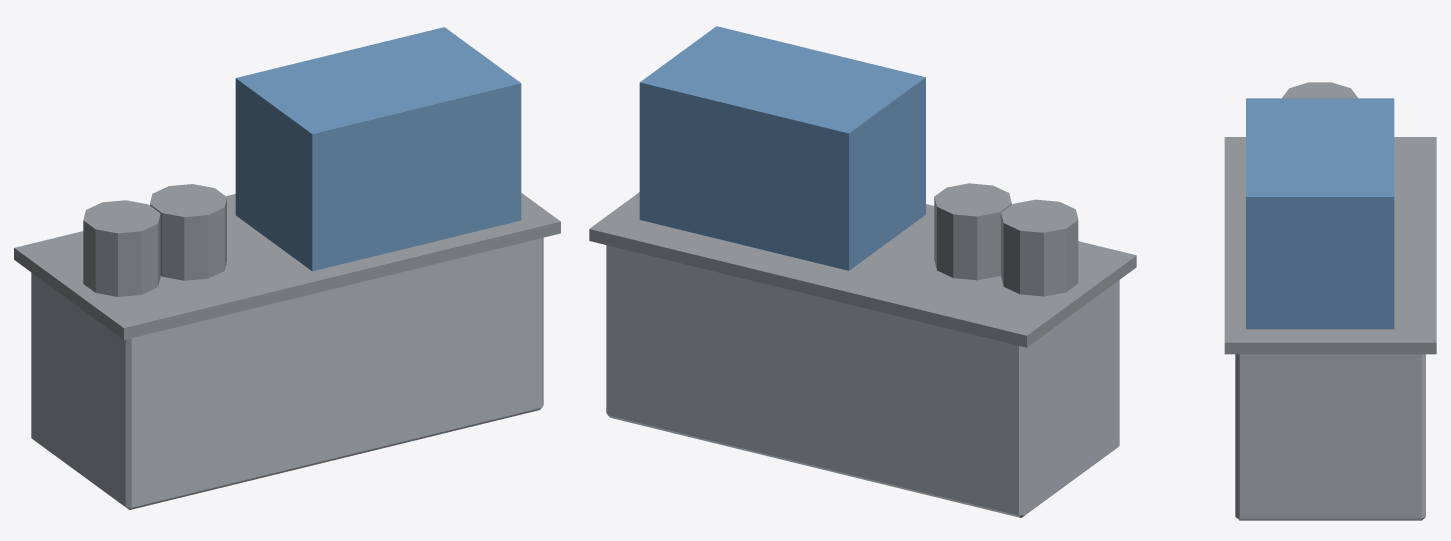
Rendered from env_stall_counter.fbx.
3 views of the same model, side by side, from view 1: azimuth 30°, elevation 25°; view 2: azimuth 150°, elevation 25°; view 3: azimuth 270°, elevation 25° (orthographic). The views are drawn at different scales.
Visible parts, largest first — view 1: env_stall_counter_geo_LOD0; view 2: env_stall_counter_geo_LOD0; view 3: env_stall_counter_geo_LOD0.
Boxes of the visible parts, <box> form: env_stall_counter_geo_LOD0: <box>14,27,560,509</box>; env_stall_counter_geo_LOD0: <box>589,26,1136,517</box>; env_stall_counter_geo_LOD0: <box>1224,82,1436,520</box>.
Size of what is drawn, in the model's own units: 2.3 by 1.7 by 1.28.
